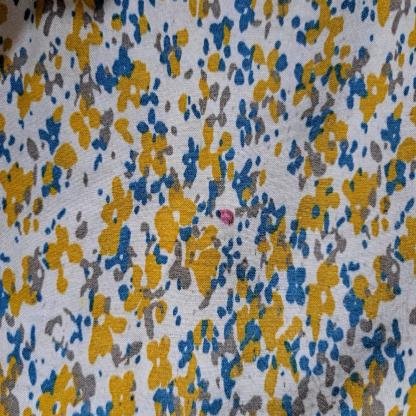spot: (217, 203, 236, 228)
